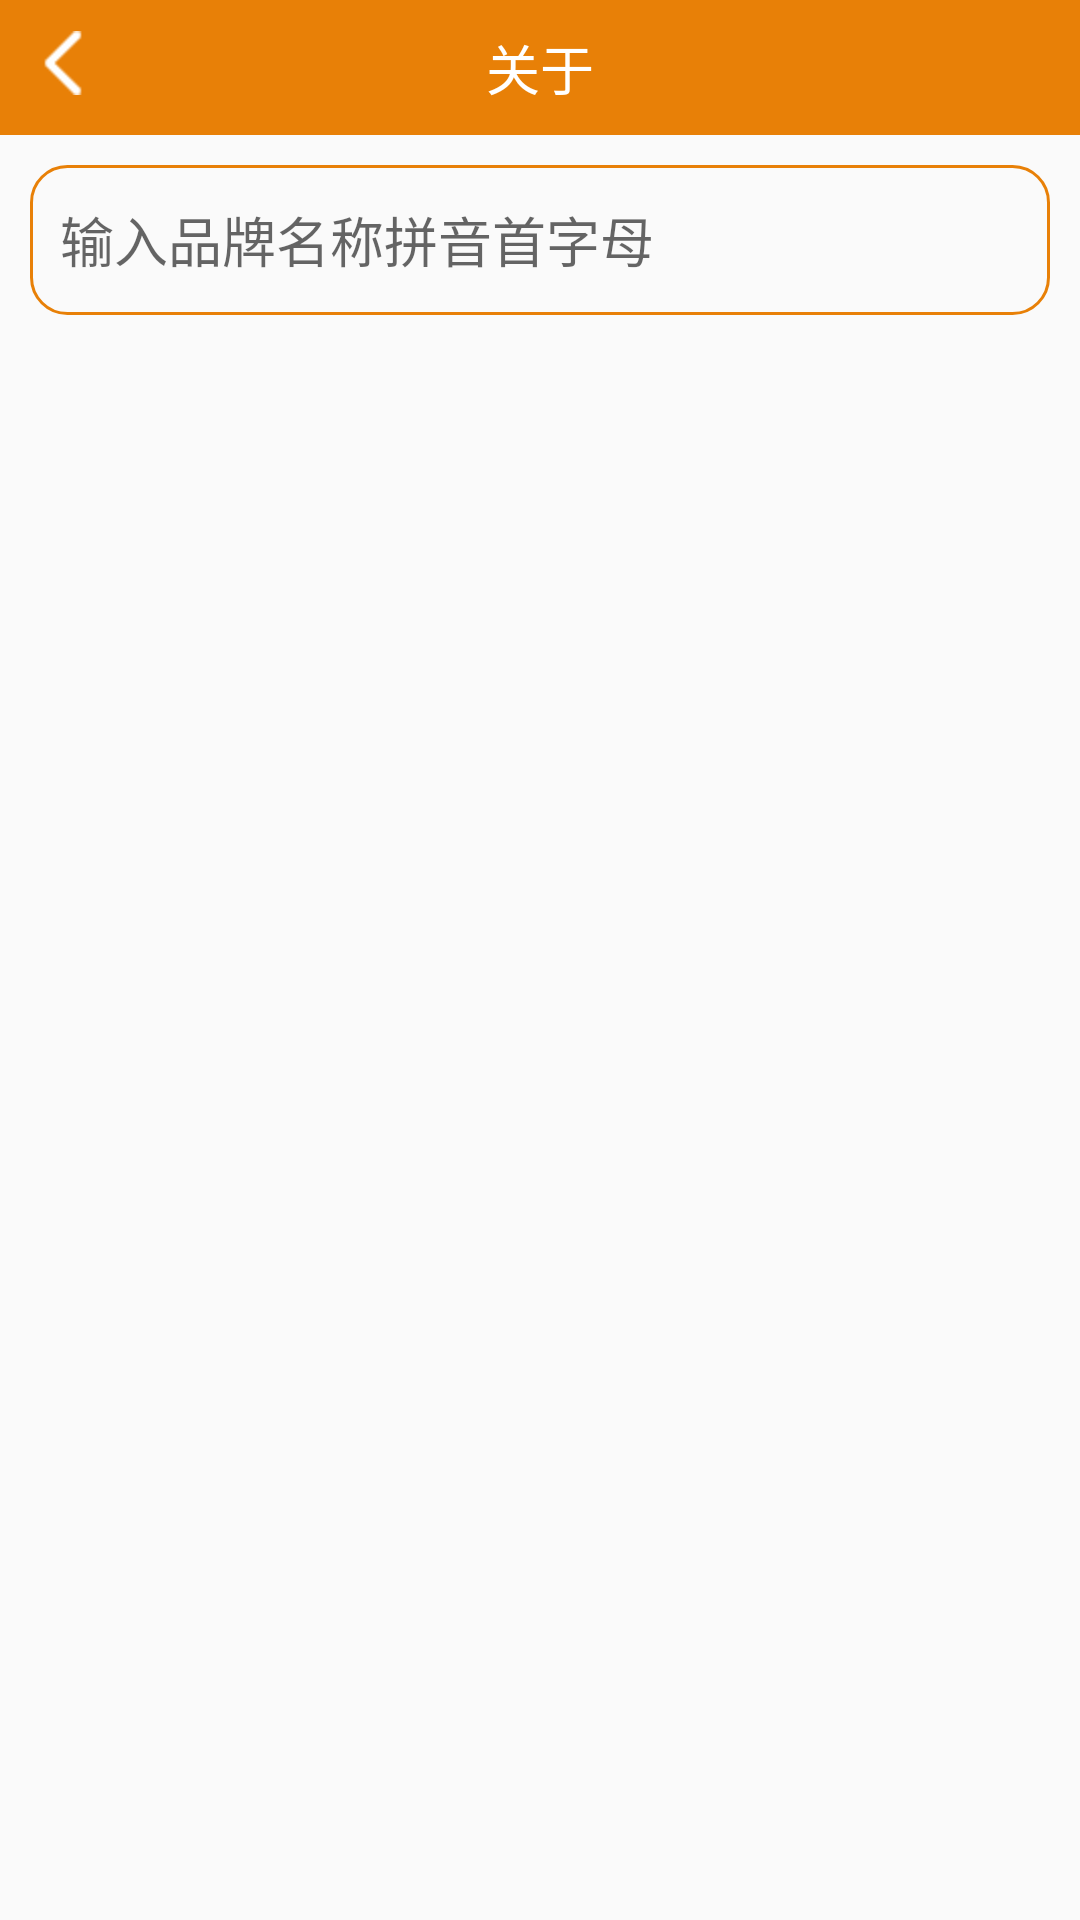

Locate icon controls on the screen. Image size 1080px×1920px, boxes as [x1, y1, x2, y2].
back: [44, 31, 82, 95]
